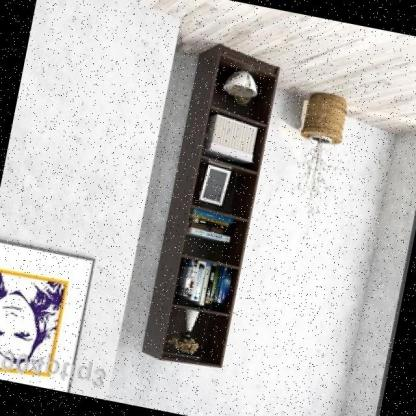Shelf: (135, 31, 295, 379)
